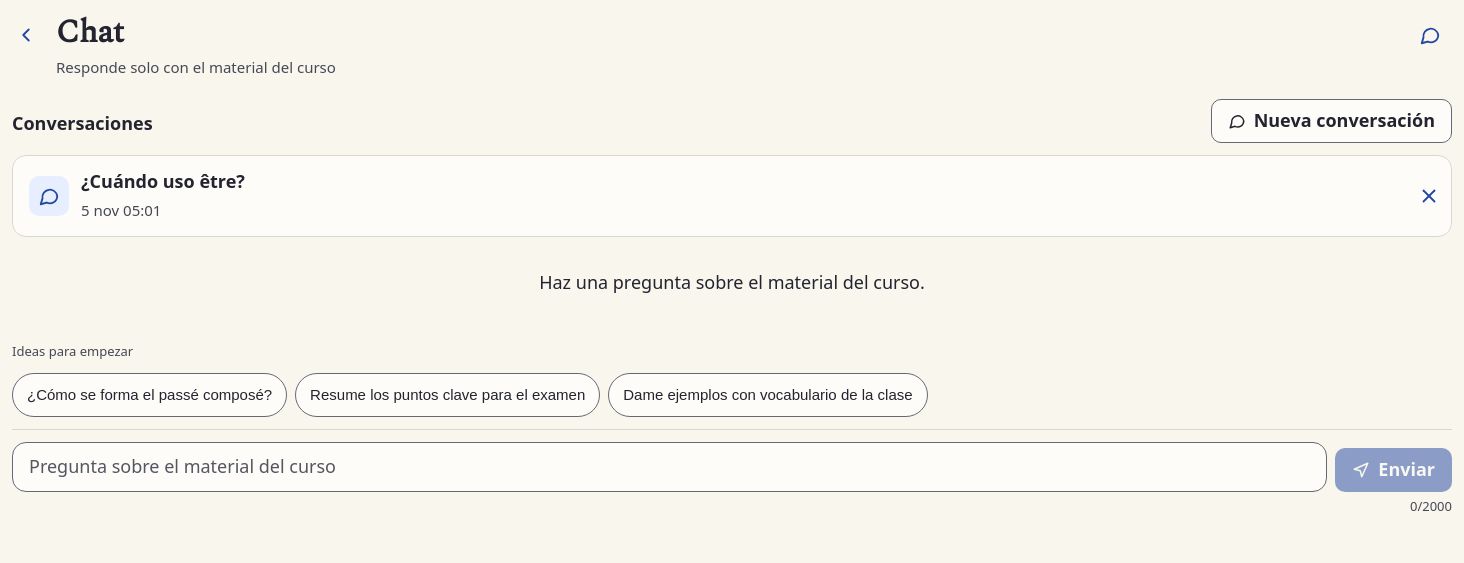
it: no_material muestra «Sin fuentes en el material»
This screenshot has width=1464, height=563.
Type "¿Qué es el plus-que-parfait?" into the text box labelled "Pregunta" at (670, 467), box x1=12 y1=442 x2=1327 y2=492
Then press Enter
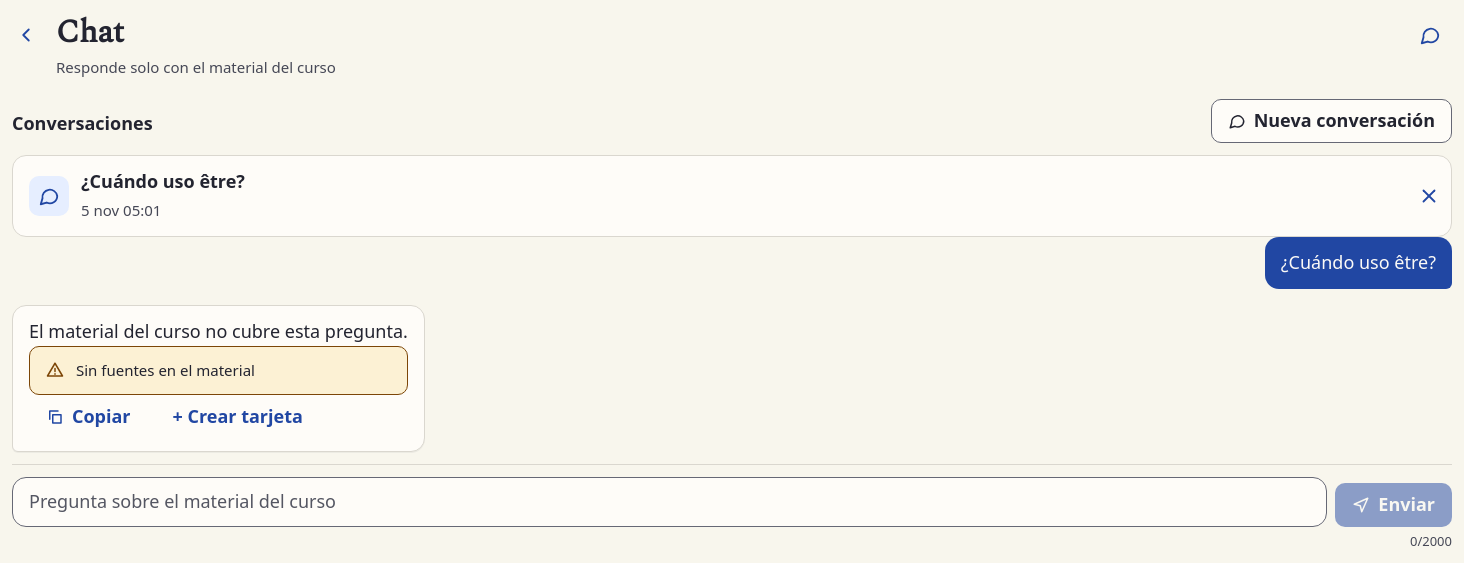
Now the text "Sin fuentes en el material" is shown, box x1=76 y1=360 x2=255 y2=380
Now the text "El material del curso no cubre esta pregunta." is shown, box x1=29 y1=318 x2=408 y2=346
